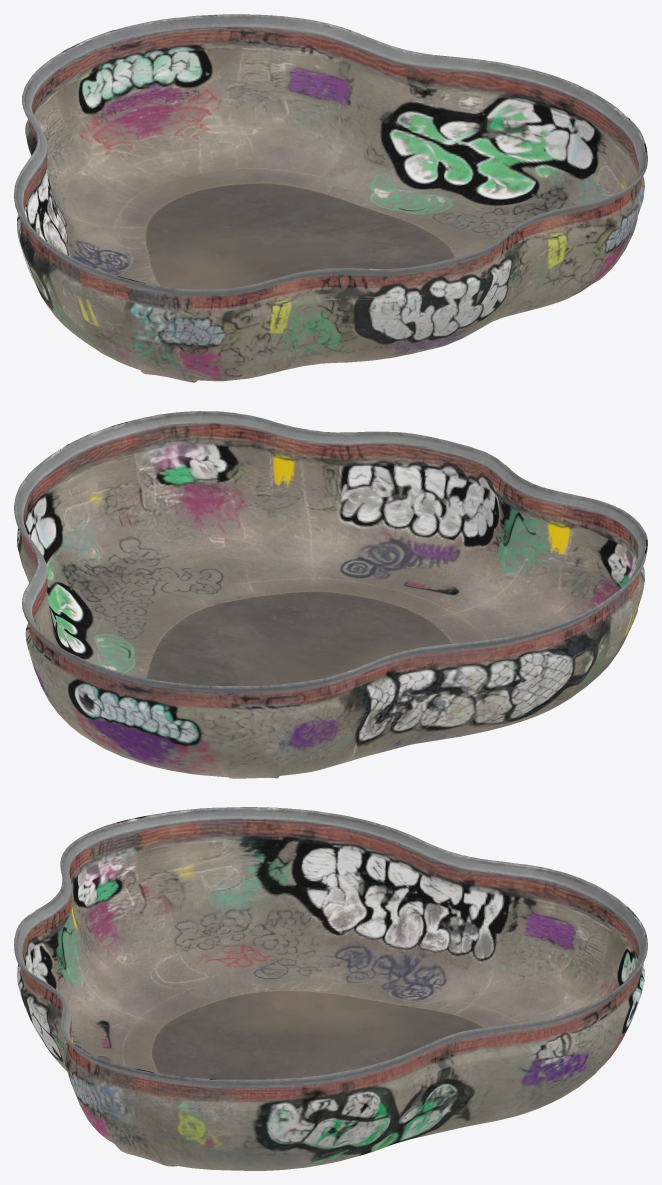
Rendered from skate_bowl_runtime.mobile.glb.
3 views of the same model, one above another, from view 1: azimuth 30°, elevation 25°; view 2: azimuth 150°, elevation 25°; view 3: azimuth 270°, elevation 25° (orthographic).
Parts seen in each view (by area): view 1: Mesh1.0; view 2: Mesh1.0; view 3: Mesh1.0.
Boxes of the visible parts, x1,y1,x2,y2 form: Mesh1.0: [14, 14, 647, 382]; Mesh1.0: [14, 411, 647, 778]; Mesh1.0: [14, 807, 647, 1170].
Bounding box in the file's own units: 1.91 × 0.4201 × 1.87.
1 material, 1 textured.
